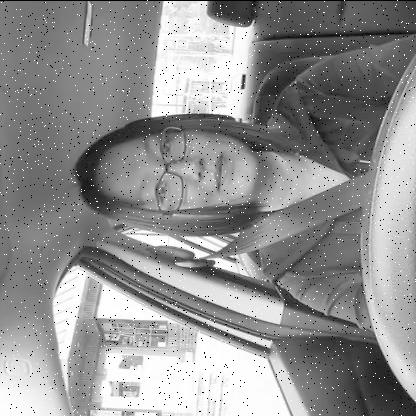seatbelt: (44, 109, 370, 270)
